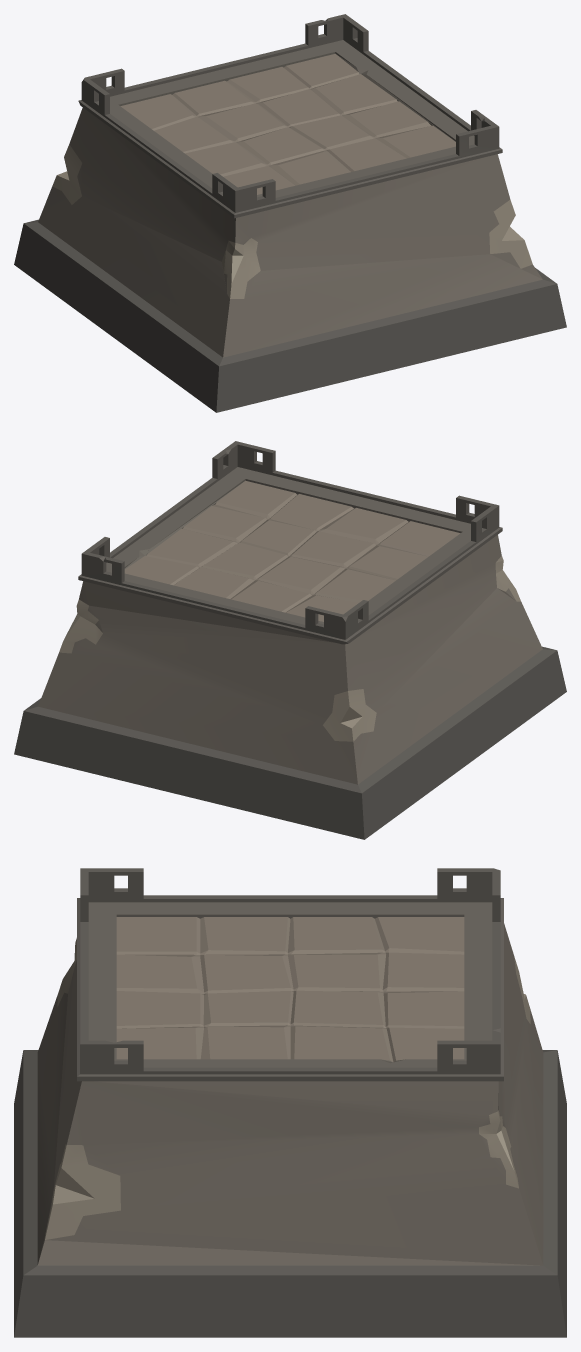
Rendered from SM_Bld_Fort_Base_02.fbx.
3 views of the same model, one above another, from view 1: azimuth 30°, elevation 25°; view 2: azimuth 150°, elevation 25°; view 3: azimuth 270°, elevation 25° (orthographic). The views are drawn at different scales.
Parts seen in each view (by area): view 1: SM_Bld_Fort_Base_02; view 2: SM_Bld_Fort_Base_02; view 3: SM_Bld_Fort_Base_02.
Boxes of the visible parts, bbox=[...] form: SM_Bld_Fort_Base_02: bbox=[14, 14, 566, 412]; SM_Bld_Fort_Base_02: bbox=[14, 441, 566, 839]; SM_Bld_Fort_Base_02: bbox=[14, 868, 566, 1337].
Size of the model in its own units: 21.75 by 11.48 by 21.75.
